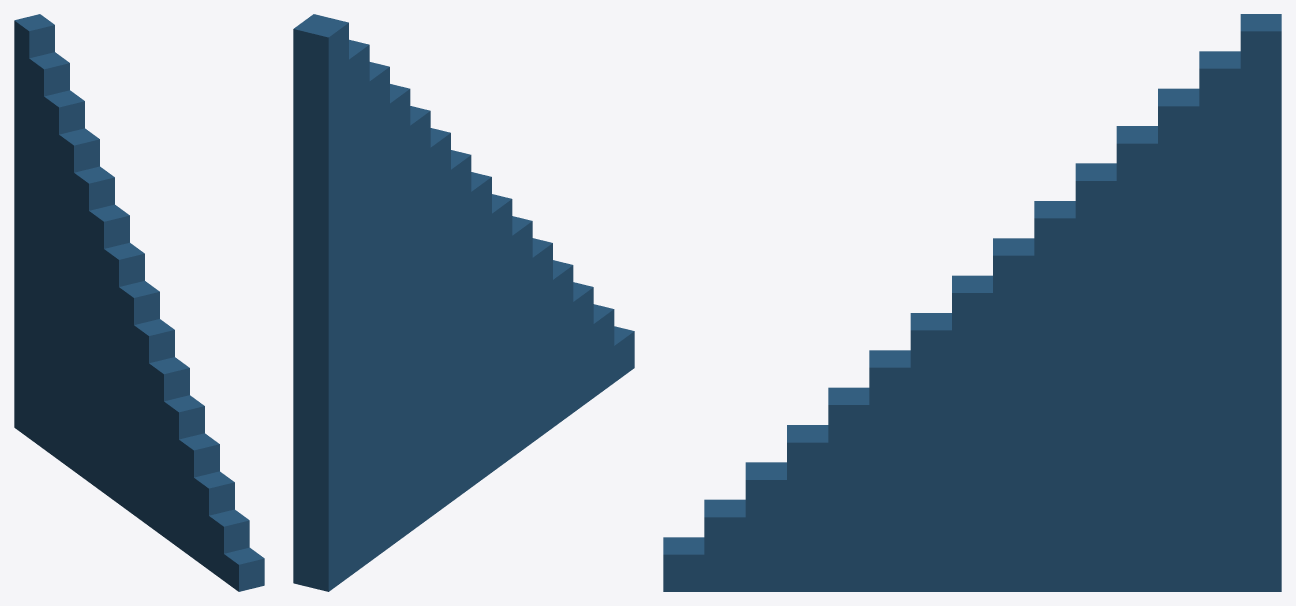
Rendered from ConstructionMaterials-17.obj.
3 views of the same model, side by side, from view 1: azimuth 30°, elevation 25°; view 2: azimuth 150°, elevation 25°; view 3: azimuth 270°, elevation 25° (orthographic). The views are drawn at different scales.
Bounding box in the file's own units: 0.1 × 1.5 × 1.5.
1 material, 1 textured.
